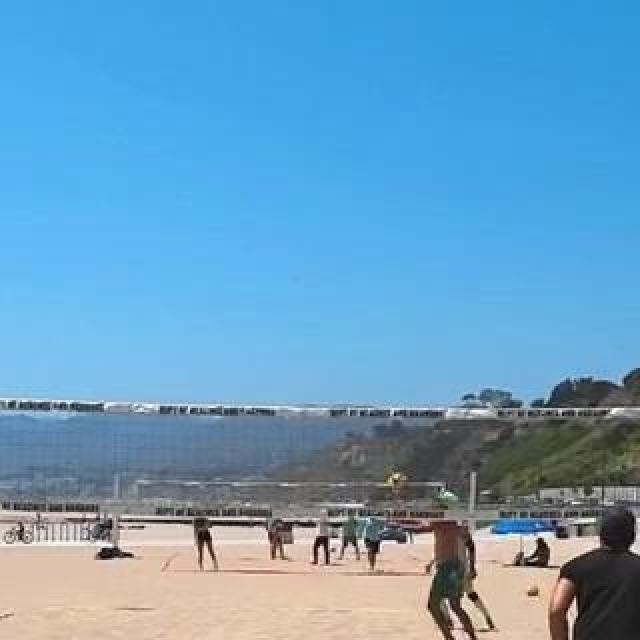volleyball: (389, 472, 407, 490), (527, 585, 539, 597)
